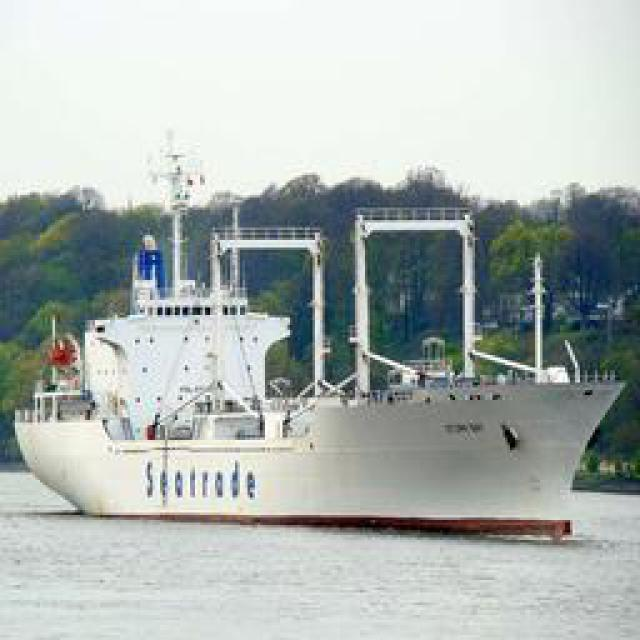Ship: (17, 197, 620, 537)
